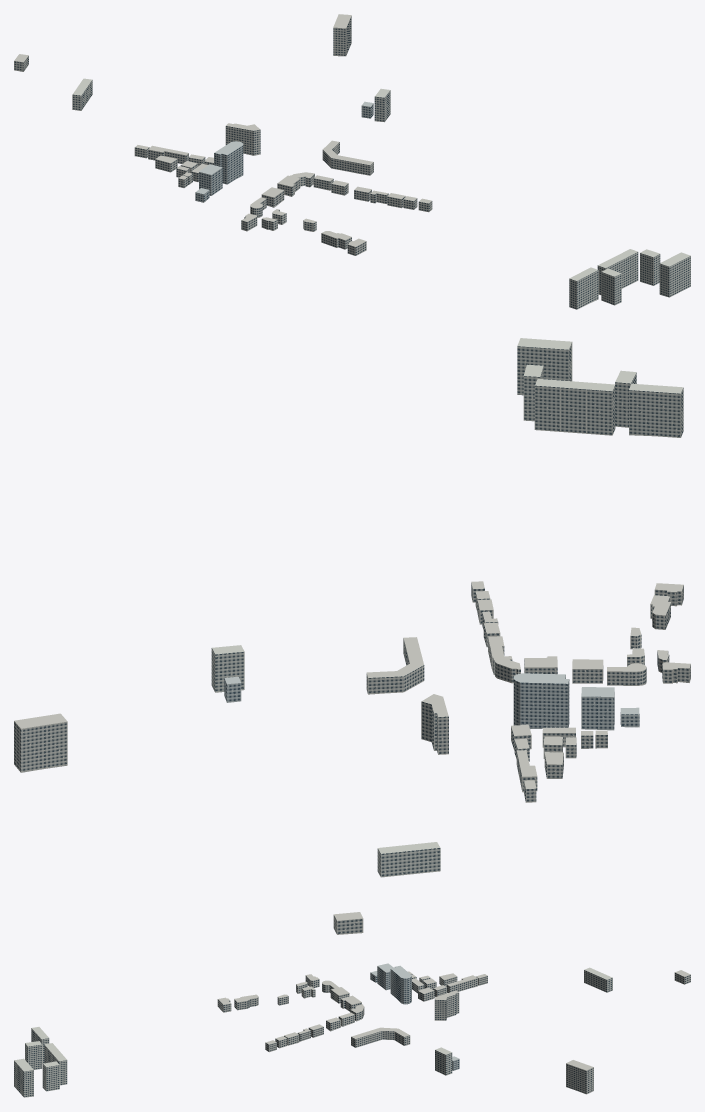
File: city_8_4.glb
3 renders of one model, top to bottom at view 1: azimuth 30°, elevation 25°; view 2: azimuth 150°, elevation 25°; view 3: azimuth 270°, elevation 25°, orthographic. The views are drawn at different scales.
Size of the model in its own units: 420 by 47.51 by 1013.
Materials: 3 (3 with a texture image).
